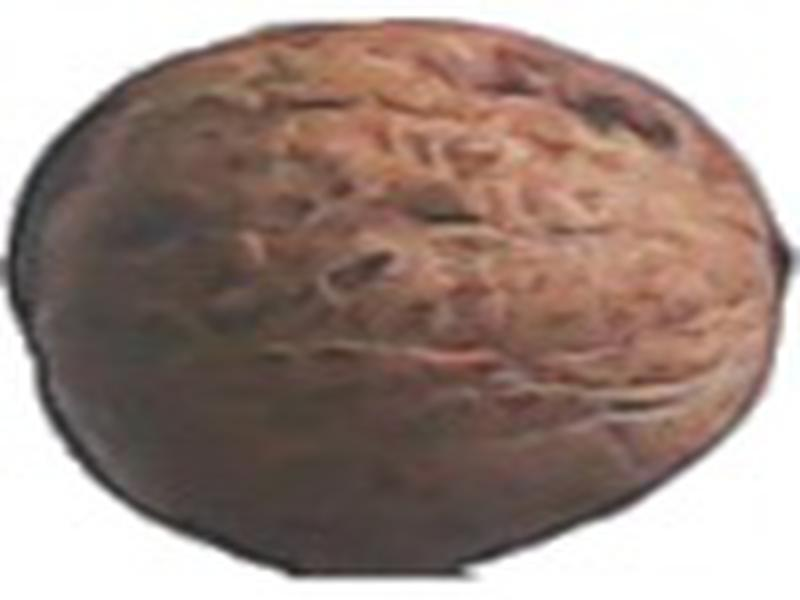walnut: (3, 1, 800, 595)
